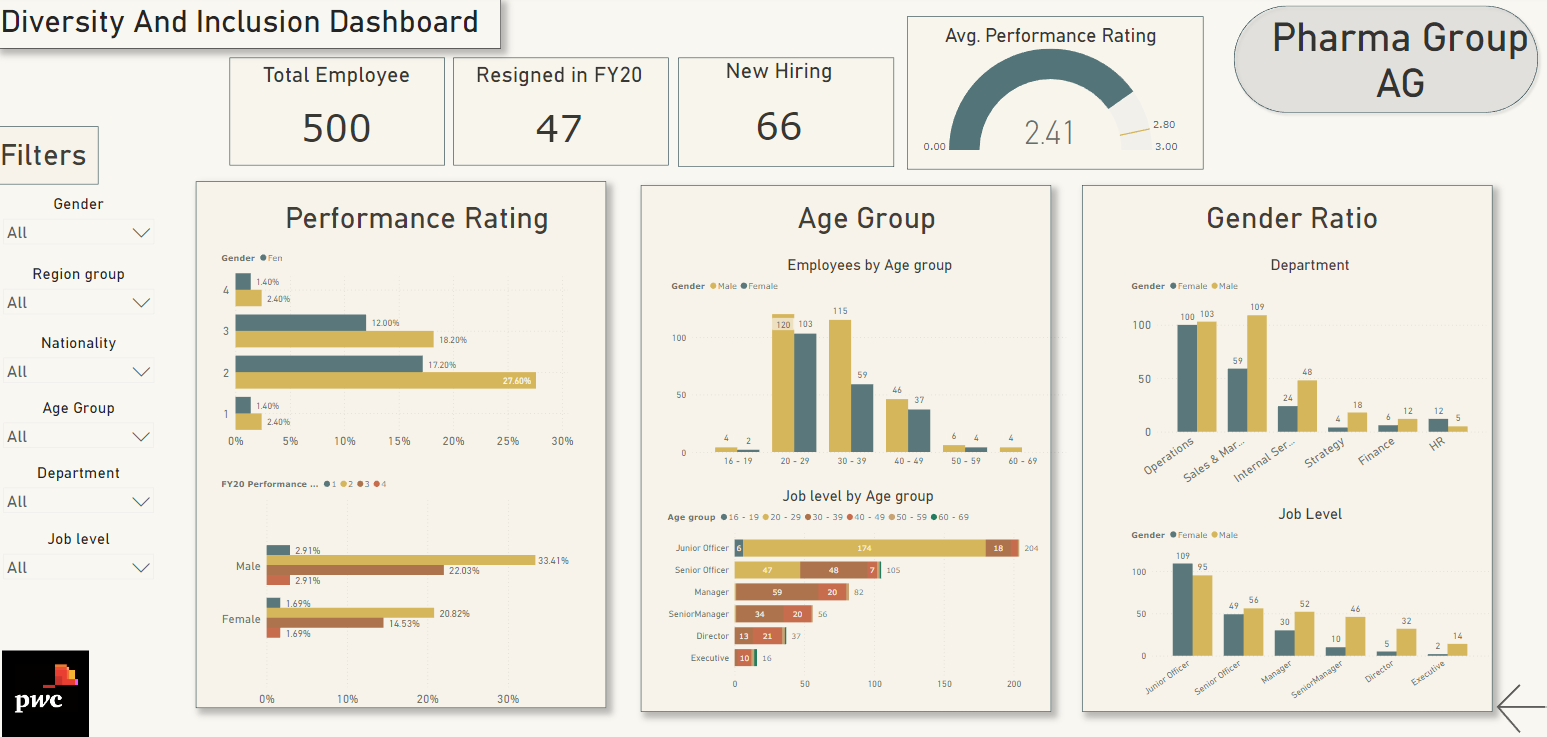

This screenshot's page, from the dashboard's own definition file:
{"tool":"powerbi","page":{"name":"Page 2","canvas":[2500,1200],"ordinal":1},"visuals":[{"type":"clusteredBarChart","fields":{"Category":["Pharma Group AG.FY20 Performance Rating"],"Series":["Pharma Group AG.Gender"],"Y":["CountNonNull(Pharma Group AG.Gender)"]},"box":[355,402.5,587.5,332.5],"z":0},{"type":"clusteredBarChart","fields":{"Category":["Pharma Group AG.Gender"],"Y":["CountNonNull(Pharma Group AG.FY20 Performance Rating)"],"Series":["Pharma Group AG.FY20 Performance Rating"]},"box":[355,765,587.5,382.5],"z":1},{"type":"actionButton","box":[0,1092.5,140,107.5],"z":10},{"type":"card","title":"Total Employee","fields":{"Values":["CountNonNull(Pharma Group AG.Employee ID)"]},"box":[376.7,106.7,340,166.7],"z":16},{"type":"gauge","title":"Avg.  Performance Rating","fields":{"Y":["Avg(Pharma Group AG.FY20 Performance Rating)"]},"box":[1450,46.7,490,213.3],"z":17},{"type":"textbox","box":[0,6.7,810,80],"z":21},{"type":"shape","box":[373.3,100,346.7,173.3],"z":29},{"type":"image","box":[0,1050,155,150],"z":30},{"type":"card","title":"Resigned in FY20","fields":{"Values":["CountNonNull(Pharma Group AG.Leaver FY)"]},"box":[746.7,106.7,316.7,166.7],"z":34},{"type":"card","title":"New Hiring","fields":{"Values":["CountNonNull(Pharma Group AG.New hire FY20?)"]},"box":[1096.7,100,320,173.3],"z":35},{"type":"shape","box":[733.3,100,346.7,173.3],"z":36},{"type":"shape","box":[1463.3,33.3,476.7,246.7],"z":37},{"type":"shape","box":[1096.2,100,347.5,176.2],"z":38},{"type":"textbox","box":[457.5,325,450,112.5],"z":39},{"type":"lineClusteredColumnComboChart","title":"Employees by Age group","fields":{"Category":["Pharma Group AG.Age group"],"Y":["CountNonNull(Pharma Group AG.Gender)"],"Series":["Pharma Group AG.Gender"]},"box":[1080,420,648,346],"z":41},{"type":"textbox","box":[1282.5,325,245,87.5],"z":42},{"type":"barChart","title":"Job level by Age group","fields":{"Category":["Pharma Group AG.Job Level after FY20 promotions"],"Series":["Pharma Group AG.Age group"],"Y":["CountNonNull(Pharma Group AG.Age group)"]},"box":[1072.5,792.5,622.5,332.5],"z":43},{"type":"clusteredColumnChart","title":"Department","fields":{"Category":["Pharma Group AG.Department @01.07.2020"],"Y":["CountNonNull(Pharma Group AG.Gender)"],"Series":["Pharma Group AG.Gender"]},"box":[1820,420,585,380],"z":44},{"type":"clusteredColumnChart","title":"Job Level","fields":{"Category":["Pharma Group AG.Job Level after FY20 promotions"],"Y":["CountNonNull(Pharma Group AG.Gender)"],"Series":["Pharma Group AG.Gender"]},"box":[1820,820,585,327.5],"z":45},{"type":"textbox","box":[1940,325,317.5,95],"z":46},{"type":"textbox","box":[2017.5,25,477.5,187.5],"z":47},{"type":"shape","box":[1980,7.5,507.5,190],"z":48},{"type":"shape","box":[1745,305,660,847.5],"z":49},{"type":"shape","box":[1035,305,660,847.5],"z":50},{"type":"shape","box":[320,300,660,847.5],"z":51},{"type":"actionButton","box":[2405,1092.5,95,107.5],"z":52},{"type":"slicer","title":"Gender","fields":{"Values":["Pharma Group AG.Gender"]},"box":[0,322.5,262.5,97.5],"z":53},{"type":"slicer","title":"Nationality","fields":{"Values":["Pharma Group AG.Nationality 1"]},"box":[0,545,262.5,85],"z":54},{"type":"slicer","title":"Age Group","fields":{"Values":["Pharma Group AG.Age group"]},"box":[0,650,262.3,90],"z":55},{"type":"slicer","title":"Department","fields":{"Values":["Pharma Group AG.Department @01.07.2020"]},"box":[0,753.8,262.3,93.1],"z":56},{"type":"slicer","title":"Job level","fields":{"Values":["Pharma Group AG.Job Level after FY21 promotions"]},"box":[0,860.8,262.3,112.3],"z":57},{"type":"slicer","title":"Region group","fields":{"Values":["Pharma Group AG.Region group: nationality 1"]},"box":[0,435,262.5,110],"z":58},{"type":"textbox","box":[0,223.3,163.3,65],"z":59},{"type":"shape","box":[0,211.7,163.3,93.3],"z":60}]}

Visuals, with their boxes in screenshot pixels (x1, y1, x2, y2), scaled from the page's 2500x1200 canvas onto the 1547x737 screenshot:
clusteredBarChart - Pharma Group AG.FY20 Performance Rating x Pharma Group AG.Gender: 220:247:583:451
clusteredBarChart - Pharma Group AG.Gender x CountNonNull(Pharma Group AG.FY20 Performance Rating): 220:470:583:705
actionButton: 0:671:87:736
"Total Employee" card: 233:66:443:168
"Avg.  Performance Rating" gauge: 897:29:1200:160
textbox: 0:4:501:53
shape: 231:61:446:168
image: 0:645:96:736
"Resigned in FY20" card: 462:66:658:168
"New Hiring" card: 679:61:877:168
shape: 454:61:668:168
shape: 905:20:1200:172
shape: 678:61:893:170
textbox: 283:200:562:269
"Employees by Age group" lineClusteredColumnComboChart: 668:258:1069:470
textbox: 794:200:945:253
"Job level by Age group" barChart: 664:487:1049:691
"Department" clusteredColumnChart: 1126:258:1488:491
"Job Level" clusteredColumnChart: 1126:504:1488:705
textbox: 1200:200:1397:258
textbox: 1248:15:1544:131
shape: 1225:5:1539:121
shape: 1080:187:1488:708
shape: 640:187:1049:708
shape: 198:184:606:705
actionButton: 1488:671:1546:736
"Gender" slicer: 0:198:162:258
"Nationality" slicer: 0:335:162:387
"Age Group" slicer: 0:399:162:454
"Department" slicer: 0:463:162:520
"Job level" slicer: 0:529:162:598
"Region group" slicer: 0:267:162:335
textbox: 0:137:101:177
shape: 0:130:101:187
